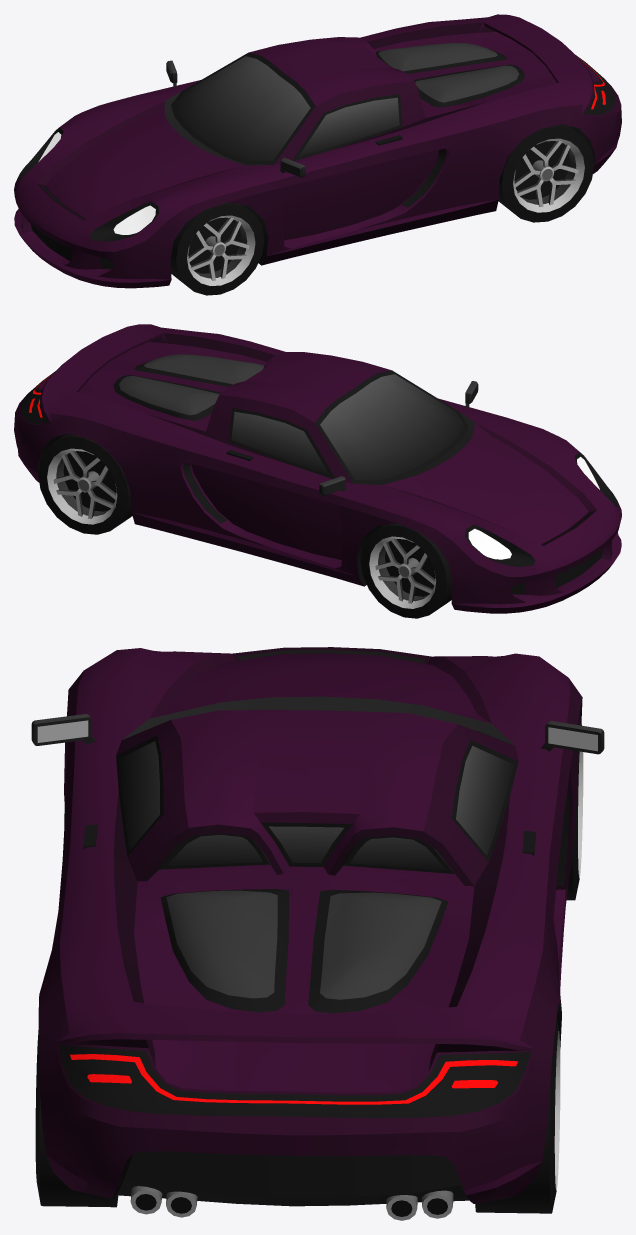
The model's file is Car_082.glb.
The picture shows the model from 3 angles, top to bottom: view 1: azimuth 30°, elevation 25°; view 2: azimuth 150°, elevation 25°; view 3: azimuth 270°, elevation 25°; orthographic projection. The views are drawn at different scales.
Visible parts, largest first — view 1: Car_082, wheel_1_Car_082_Wheel_2R, wheel_3_Car_082_Wheel_4R; view 2: Car_082, wheel_0_Car_082_Wheel_1L, wheel_2_Car_082_Wheel_3L; view 3: Car_082, wheel_0_Car_082_Wheel_1L, wheel_1_Car_082_Wheel_2R, wheel_2_Car_082_Wheel_3L.
Boxes of the visible parts, x1,y1,x2,y2 form: Car_082: [14, 14, 621, 288]; wheel_1_Car_082_Wheel_2R: [498, 124, 594, 222]; wheel_3_Car_082_Wheel_4R: [170, 202, 264, 295]; Car_082: [14, 324, 621, 613]; wheel_0_Car_082_Wheel_1L: [38, 433, 132, 534]; wheel_2_Car_082_Wheel_3L: [360, 523, 452, 618]; Car_082: [31, 647, 604, 1220]; wheel_0_Car_082_Wheel_1L: [475, 1018, 560, 1213]; wheel_1_Car_082_Wheel_2R: [35, 1030, 118, 1207]; wheel_2_Car_082_Wheel_3L: [566, 713, 583, 900].
Size of the model in its own units: 5 by 1.31 by 2.27.
Materials: 3 (3 with a texture image).
